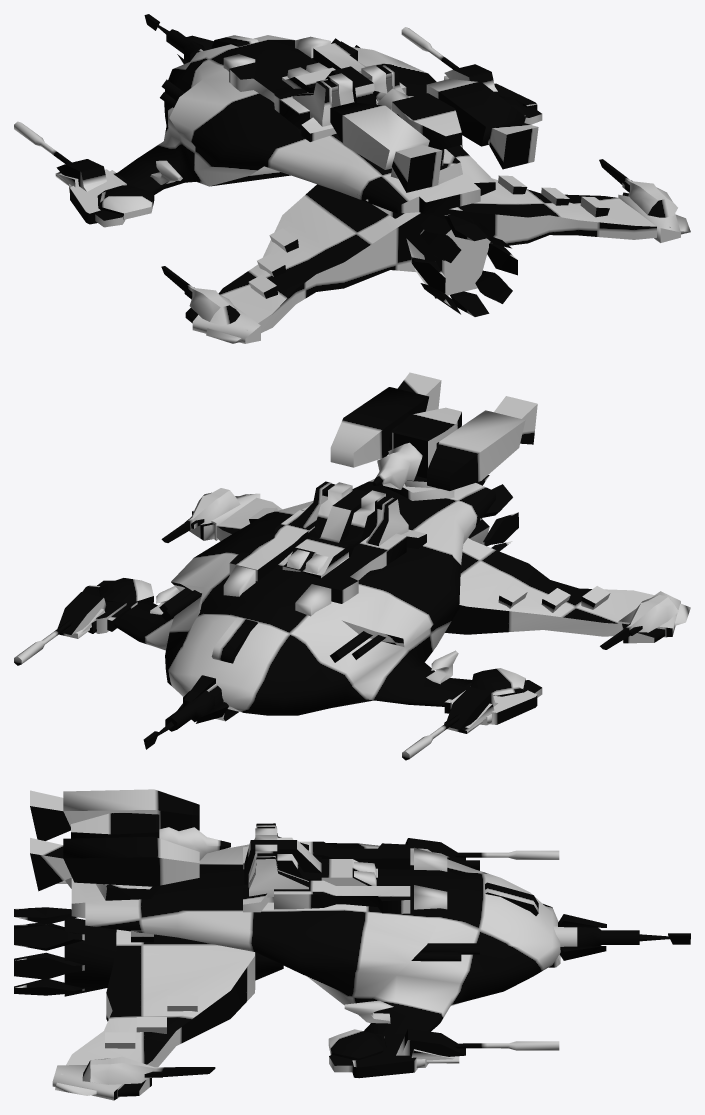
Rendered from bigboy.obj.
3 views of the same model, one above another, from view 1: azimuth 30°, elevation 25°; view 2: azimuth 150°, elevation 25°; view 3: azimuth 270°, elevation 25° (orthographic).
Parts seen in each view (by area): view 1: main; view 2: main; view 3: main.
Part boxes in pixels (x1,y1,x2,y2): main: [14, 14, 690, 343]; main: [14, 372, 690, 760]; main: [14, 789, 690, 1100].
Bounding box in the file's own units: 117 × 39.29 × 142.
1 material, 1 textured.
